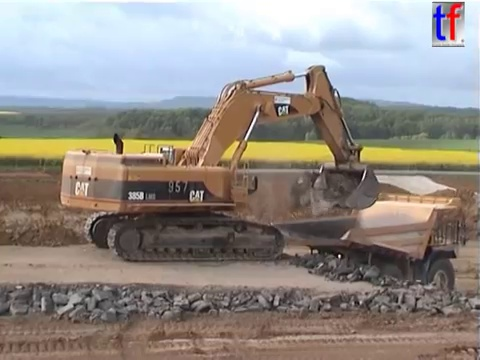excavator: (56, 61, 383, 265)
truck: (266, 190, 470, 308)
